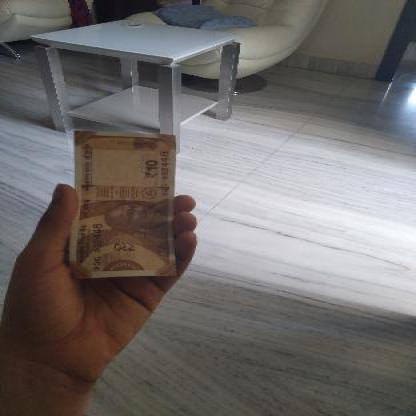New10Front: (72, 131, 180, 278)
